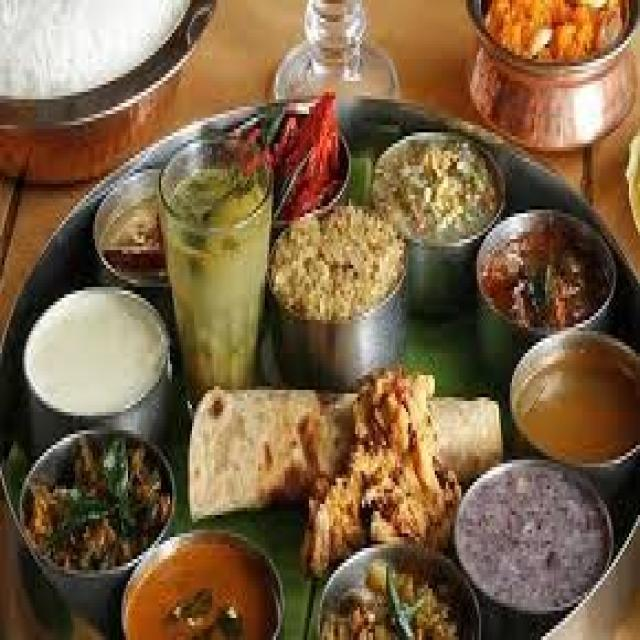curd: (17, 263, 176, 438)
dal: (367, 127, 505, 249)
papad: (182, 375, 355, 528), (269, 190, 407, 339)
rice: (1, 0, 194, 123), (272, 196, 407, 341)
sambar-rasam: (476, 201, 617, 341), (512, 320, 635, 479), (126, 521, 286, 640)
sweet: (102, 178, 163, 272)
veg-fry: (454, 459, 610, 627)
